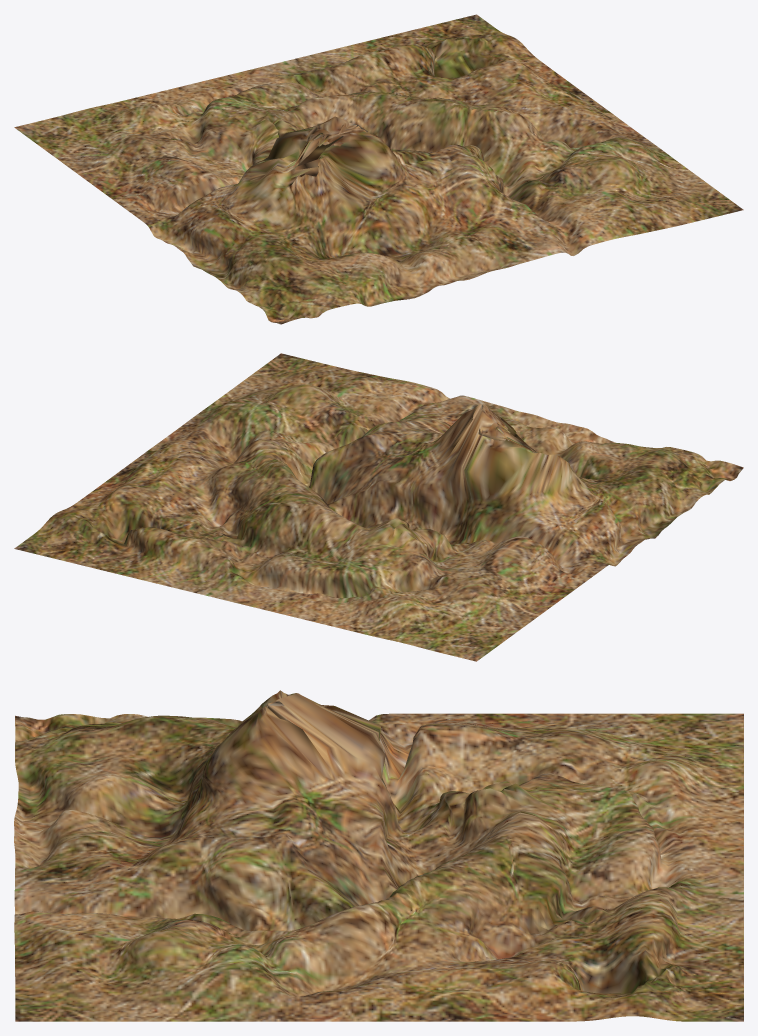
The model's file is island1.obj.
The picture shows the model from 3 angles, top to bottom: view 1: azimuth 30°, elevation 25°; view 2: azimuth 150°, elevation 25°; view 3: azimuth 270°, elevation 25°; orthographic projection. The views are drawn at different scales.
Parts seen in each view (by area): view 1: Plane; view 2: Plane; view 3: Plane.
Part boxes in pixels (x1=…): Plane: x1=14, y1=14, x2=743, y2=324; Plane: x1=14, y1=353, x2=743, y2=661; Plane: x1=14, y1=690, x2=743, y2=1021.
Size of the model in its own units: 201 by 52.05 by 200.
